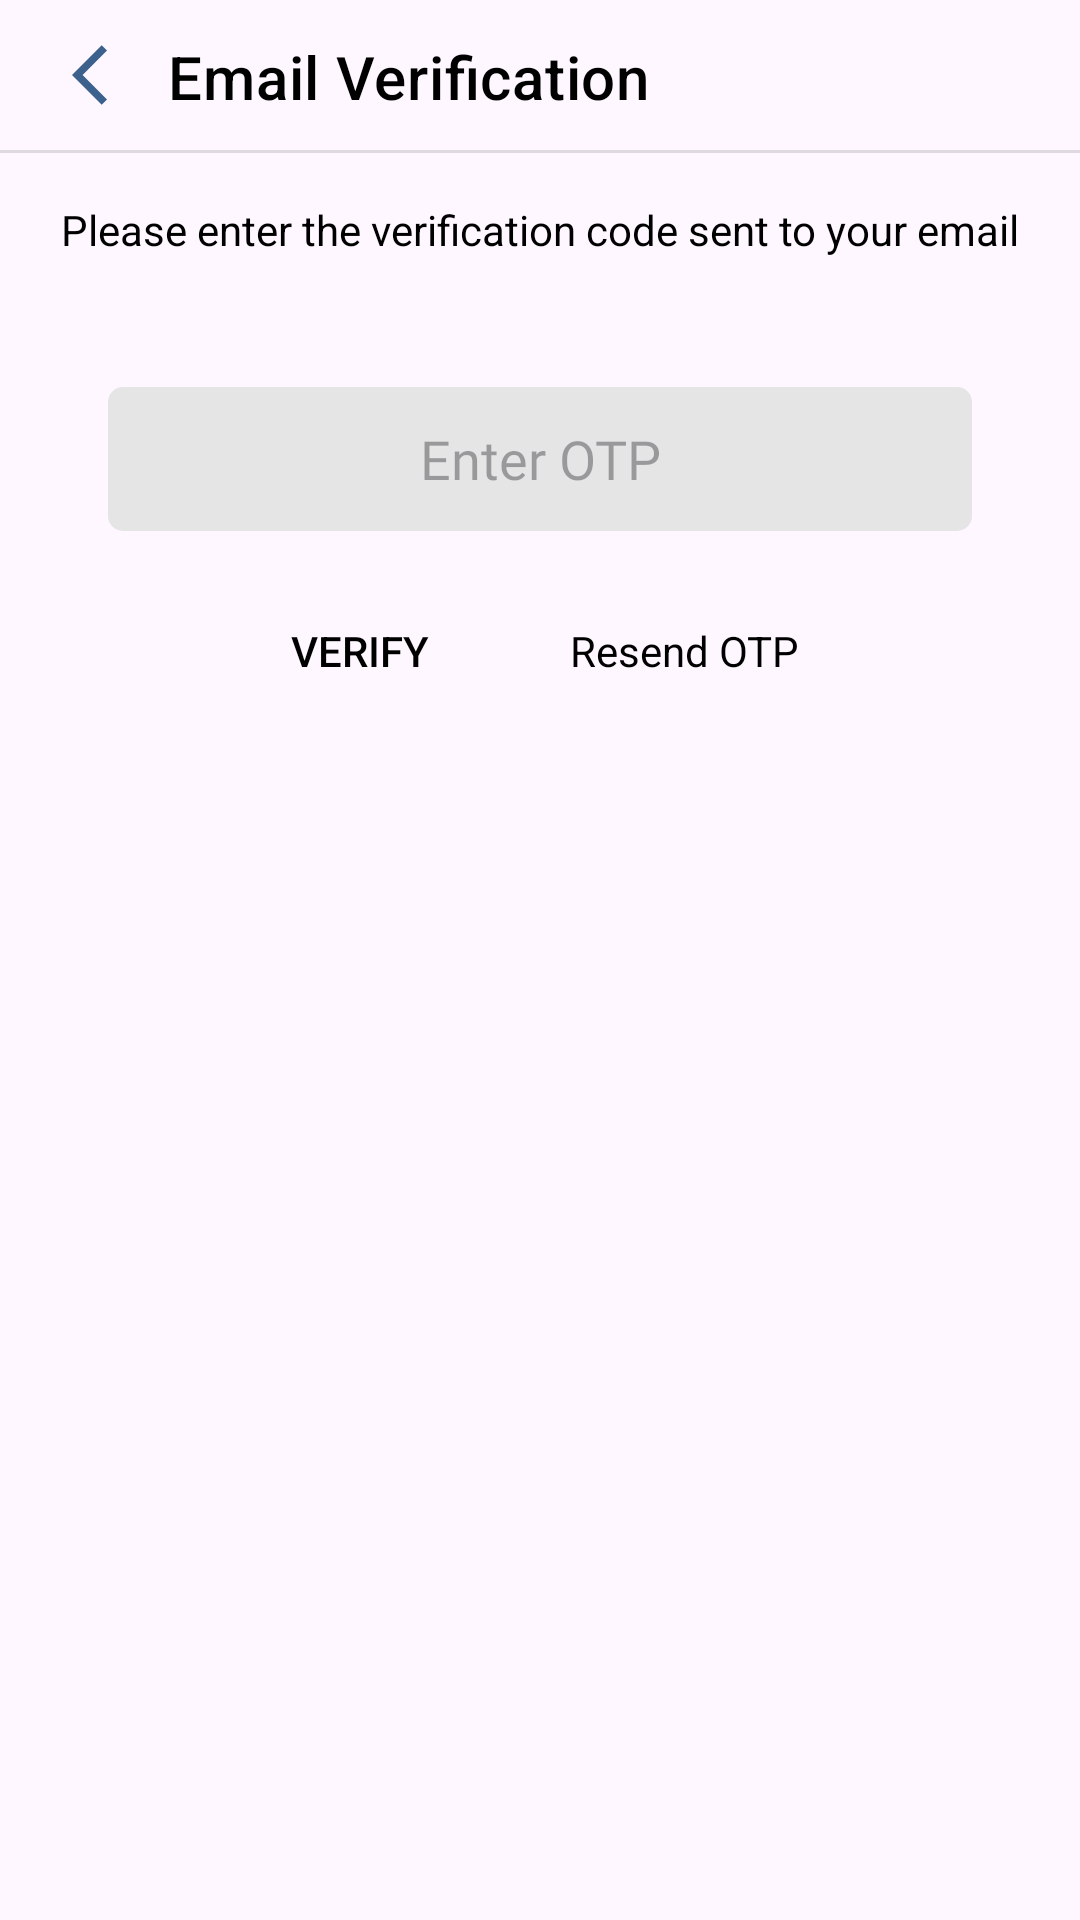

Screen size 1080*1920. Icon name, then its box in pixels as detection(x1, y1, x2, y2):
Exit: detection(72, 45, 107, 105)
